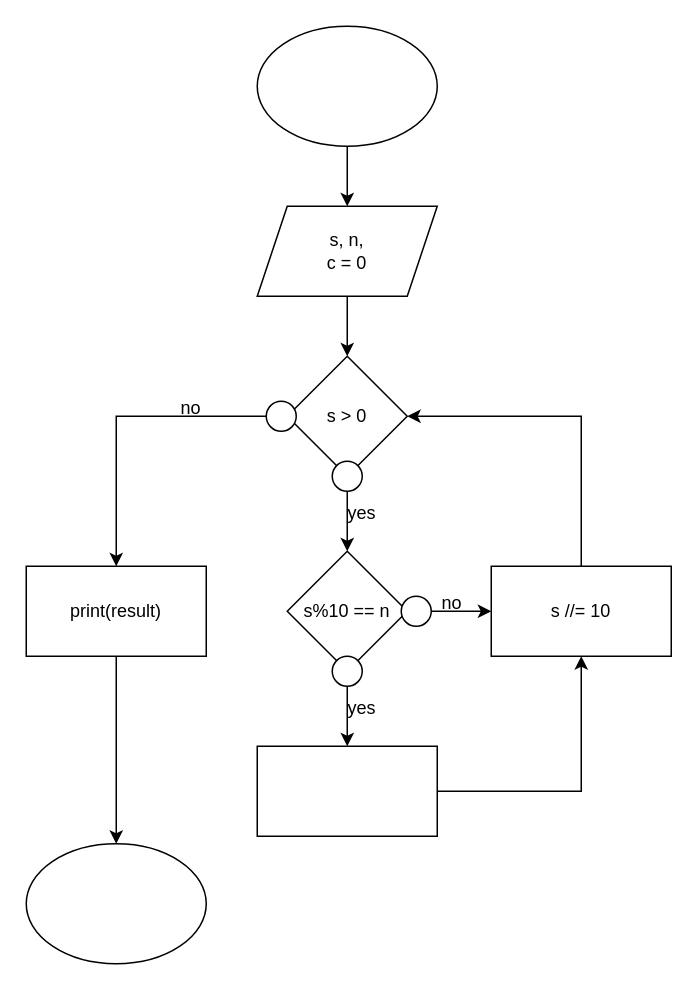
Some shapes in this 698 by 990 pixel diagram are drawn without their labels. The shapes that lost their labels are listed below. From the top down, each one's centre as x and y in pixels, then its label:
At (x=346, y=85): "Начало".
At (x=346, y=790): "c += 1".
At (x=115, y=903): "Конец".
